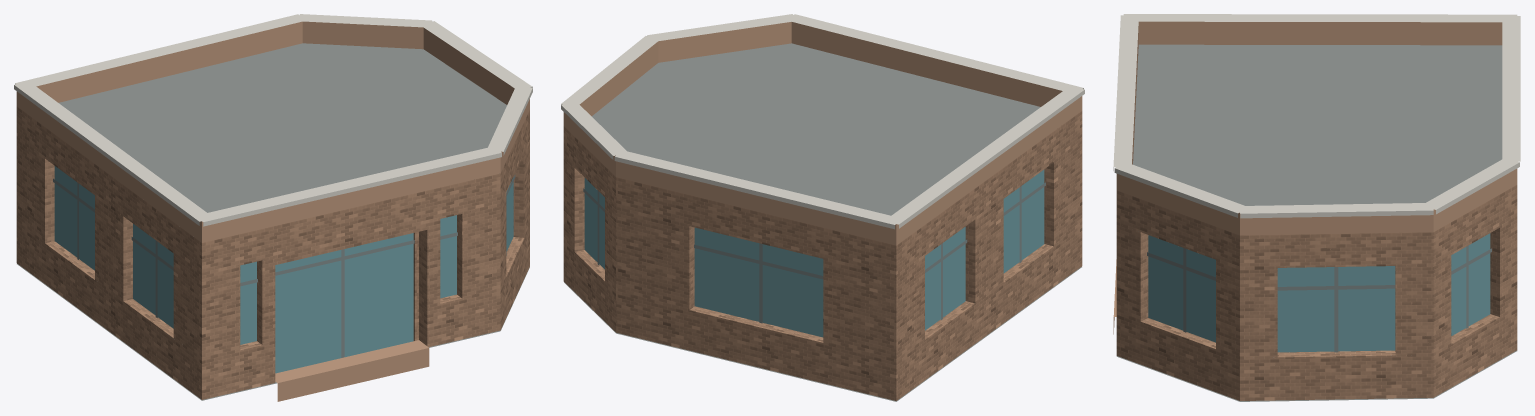
3 renders of one model, left to right at view 1: azimuth 30°, elevation 25°; view 2: azimuth 150°, elevation 25°; view 3: azimuth 270°, elevation 25°, orthographic. The views are drawn at different scales.
Parts seen in each view (by area): view 1: osm533849935__wall, osm533849935__roof, osm533849935__glass, osm533849935__parapet, osm533849935__trim, osm533849935__entranceThreshold_0, osm533849935__frame; view 2: osm533849935__wall, osm533849935__roof, osm533849935__parapet, osm533849935__glass, osm533849935__trim, osm533849935__frame; view 3: osm533849935__roof, osm533849935__wall, osm533849935__glass, osm533849935__parapet, osm533849935__trim, osm533849935__frame.
Boxes of the visible parts, x1,y1,x2,y2 form: osm533849935__wall: [16, 106, 529, 399]; osm533849935__roof: [17, 43, 529, 400]; osm533849935__glass: [54, 166, 513, 373]; osm533849935__parapet: [16, 21, 529, 242]; osm533849935__trim: [14, 14, 532, 226]; osm533849935__entranceThreshold_0: [275, 340, 429, 401]; osm533849935__frame: [53, 174, 515, 357]; osm533849935__wall: [563, 111, 1082, 400]; osm533849935__roof: [564, 43, 1081, 401]; osm533849935__parapet: [563, 22, 1082, 245]; osm533849935__glass: [584, 170, 1044, 337]; osm533849935__trim: [561, 14, 1084, 229]; osm533849935__frame: [583, 182, 1045, 323]; osm533849935__roof: [1116, 44, 1517, 401]; osm533849935__wall: [1116, 185, 1517, 400]; osm533849935__glass: [1148, 233, 1490, 352]; osm533849935__parapet: [1116, 21, 1517, 235]; osm533849935__trim: [1113, 14, 1520, 218]; osm533849935__frame: [1147, 245, 1491, 352].
Size of the model in its own units: 9.31 by 4.5 by 8.02.
8 materials, 1 textured.
